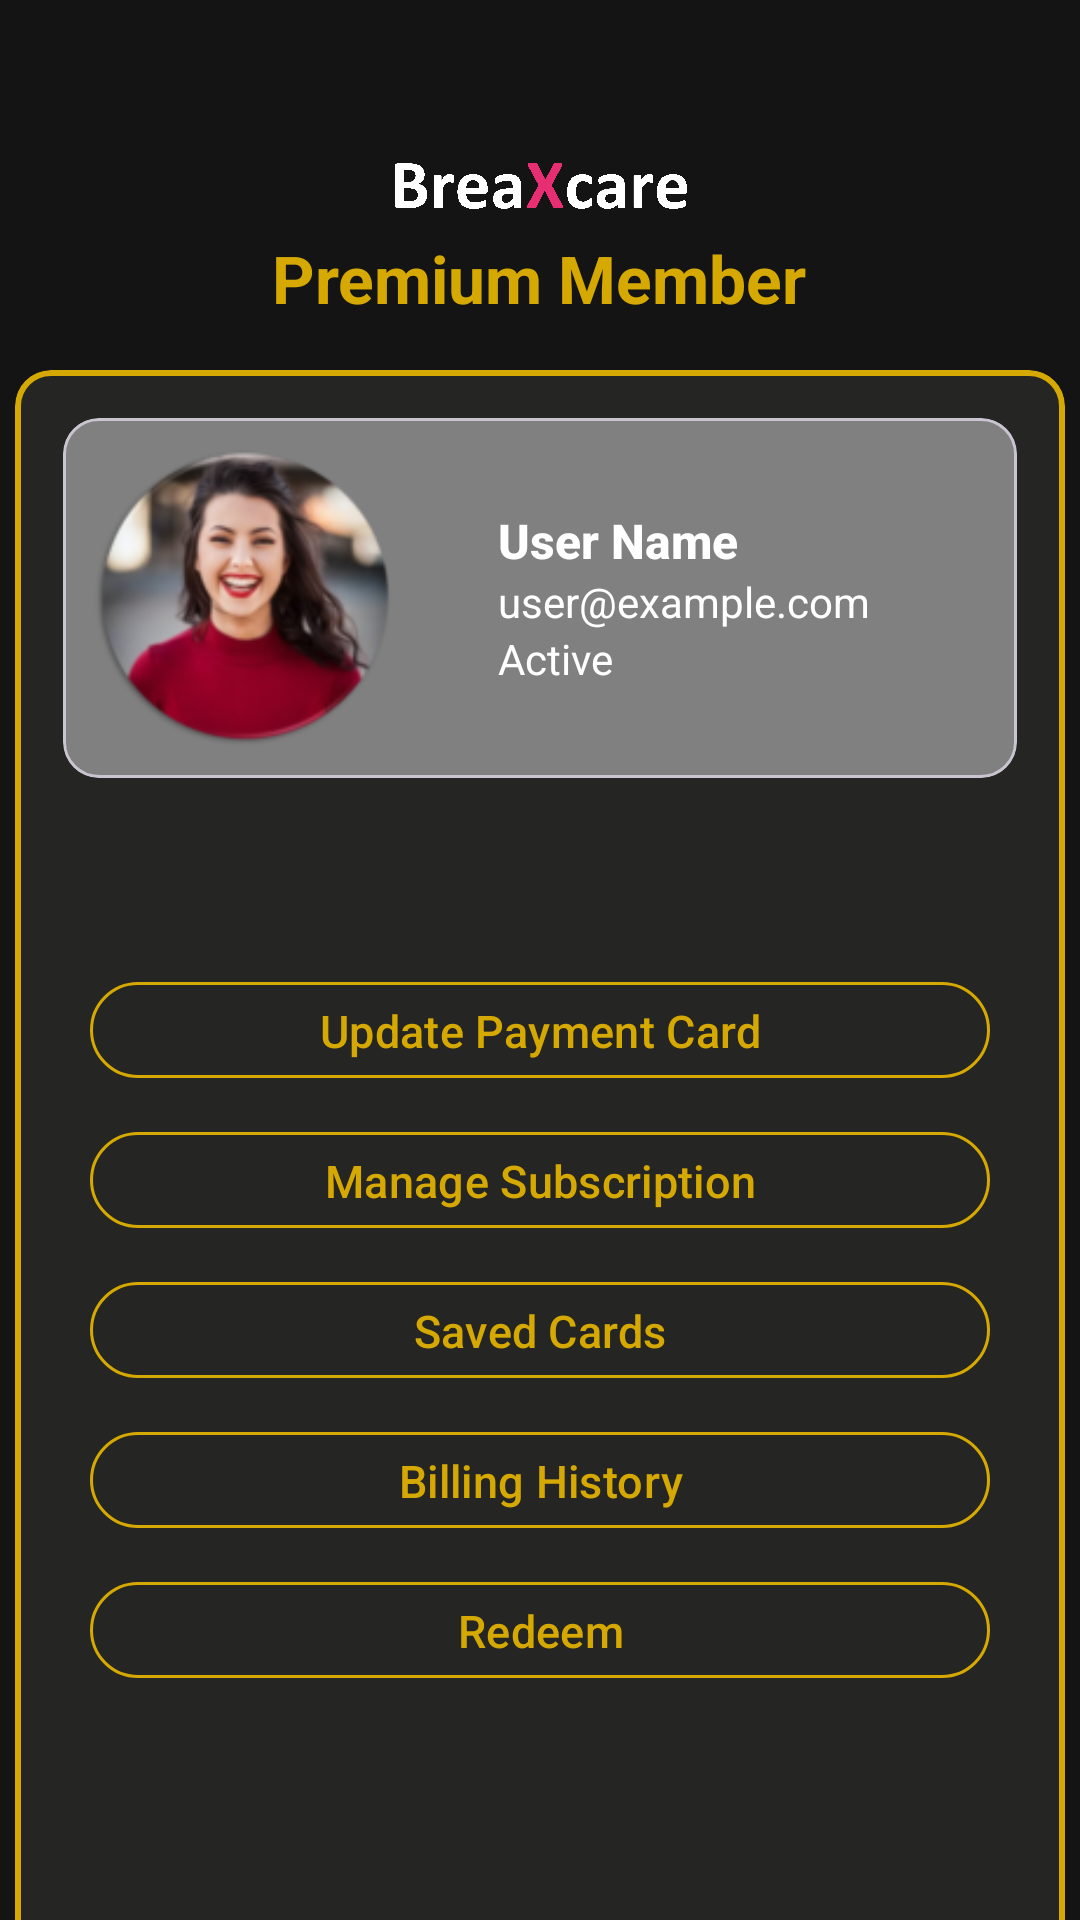

Icon bounding boxes for this 1080 × 1920 phone screenshot, format (x1, y1, x2, y2):
profilepic: (100, 453, 389, 741)
